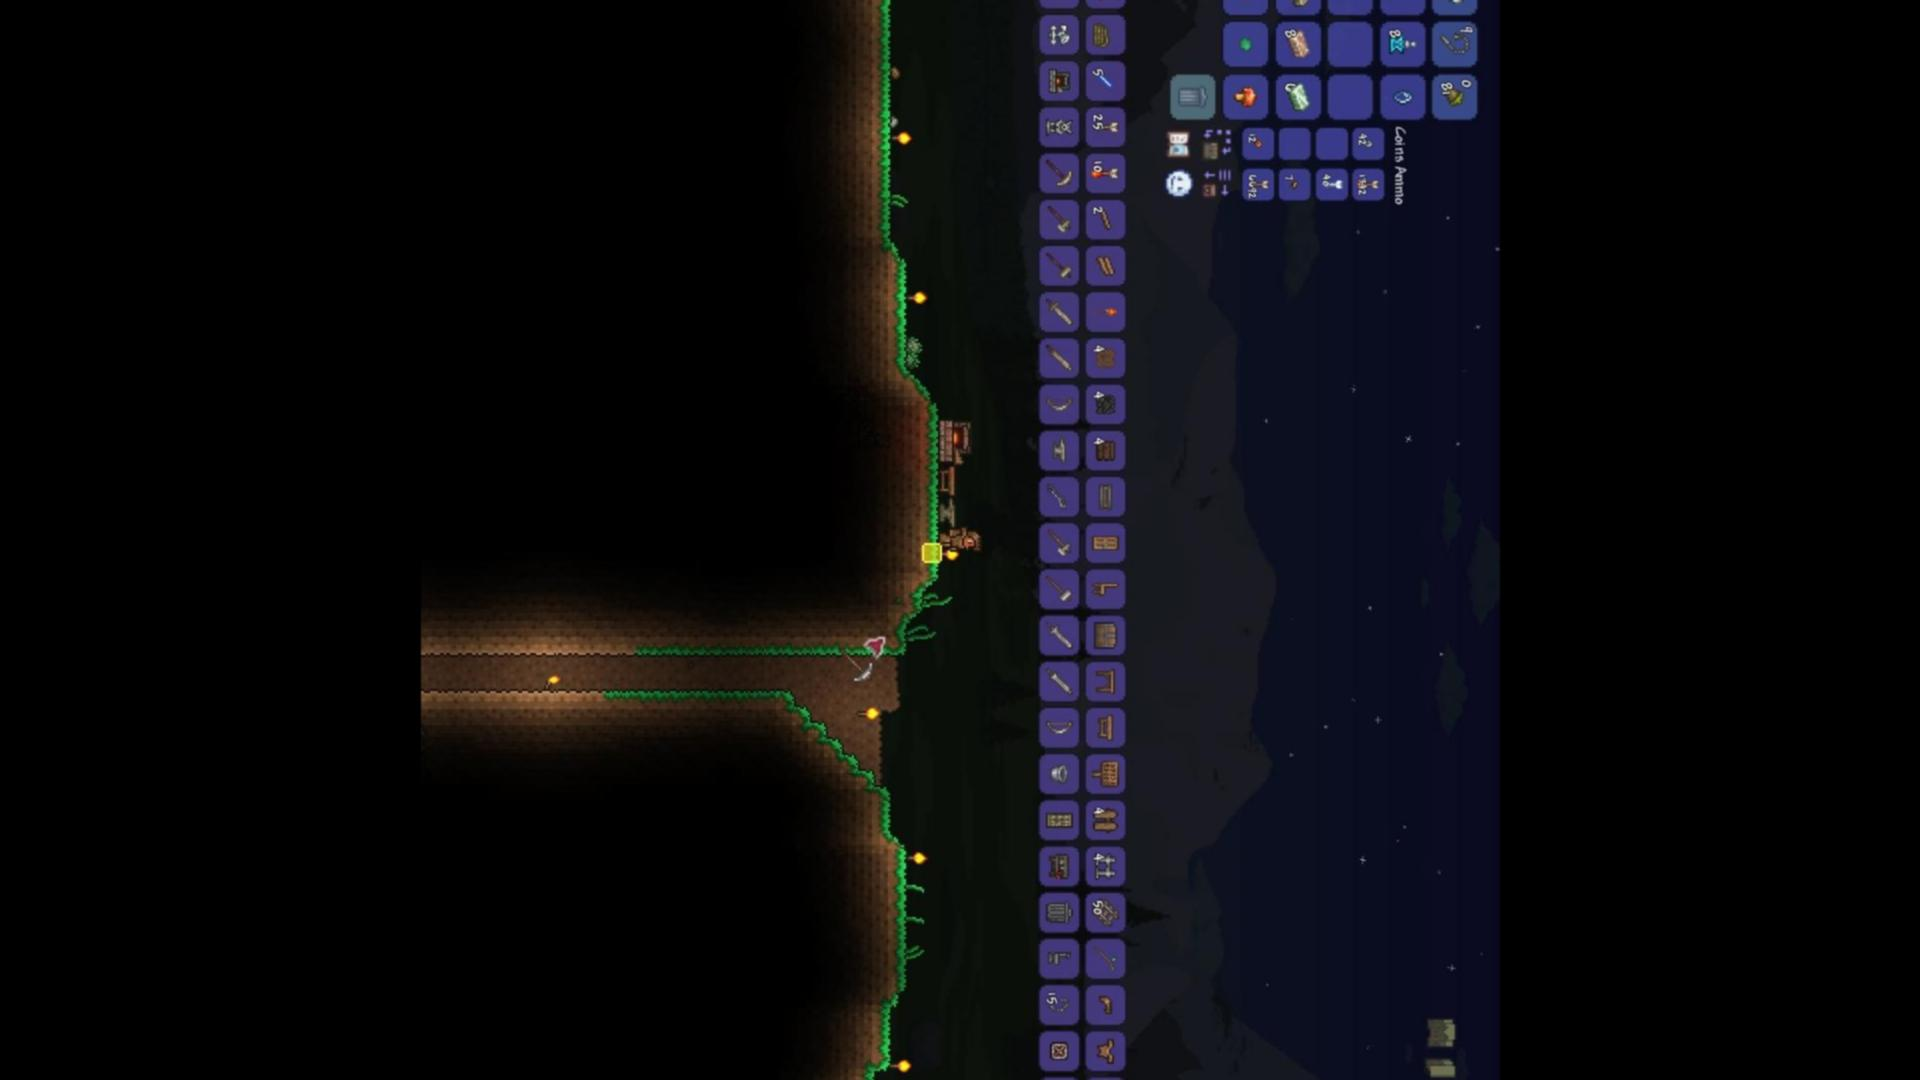anvil: (930, 500, 963, 530), (1046, 434, 1071, 467)
furnace: (936, 414, 978, 469)
pickaxe: (1039, 156, 1073, 193)
recallP: (1389, 33, 1418, 57)
